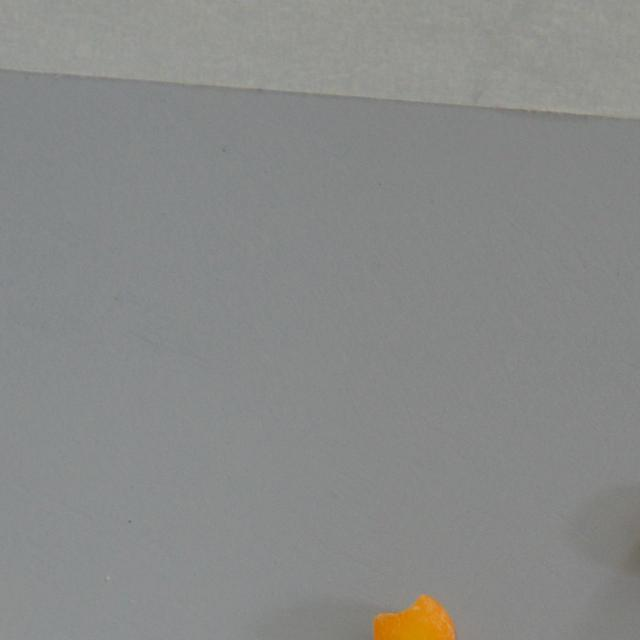pelicula: (371, 594, 456, 640)
